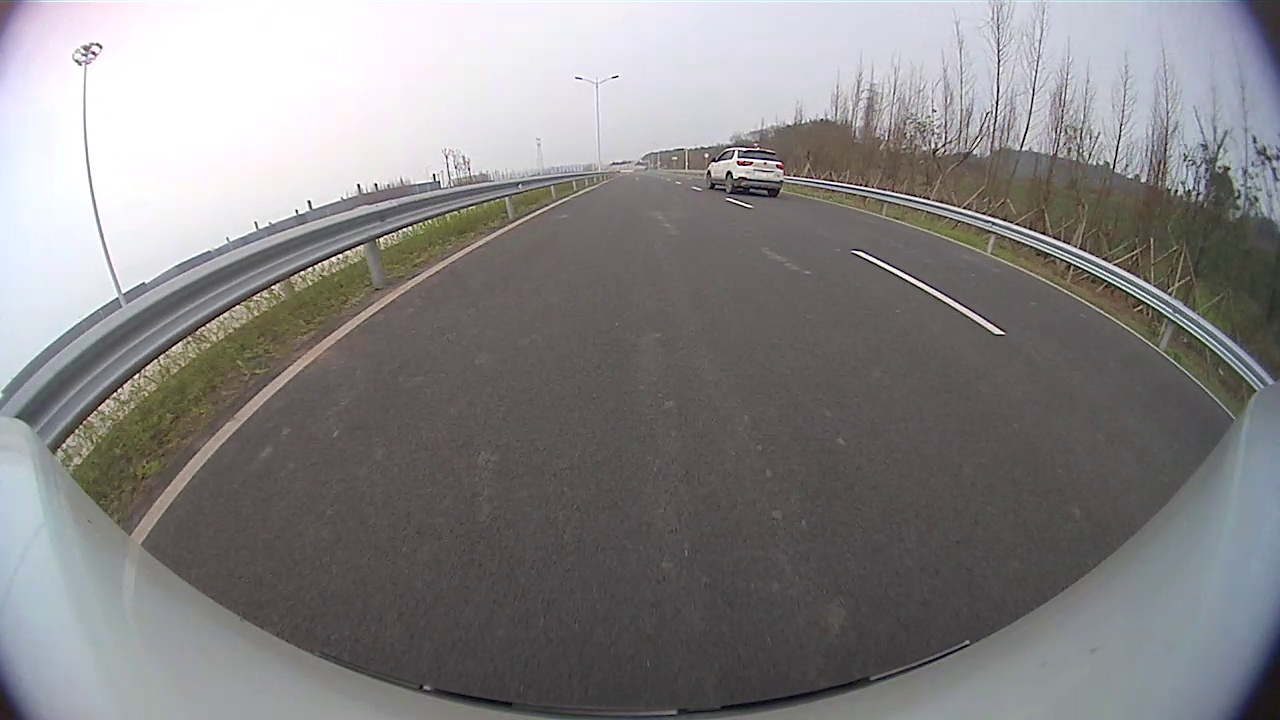car: (705, 146, 784, 197)
front: (704, 173, 714, 190)
rear: (724, 176, 733, 193)
